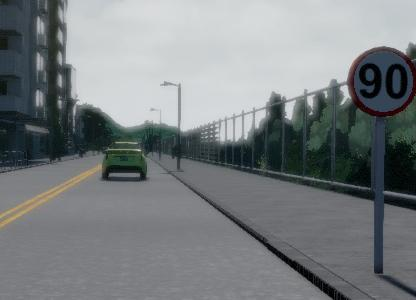Speed_90: (350, 44, 416, 120)
